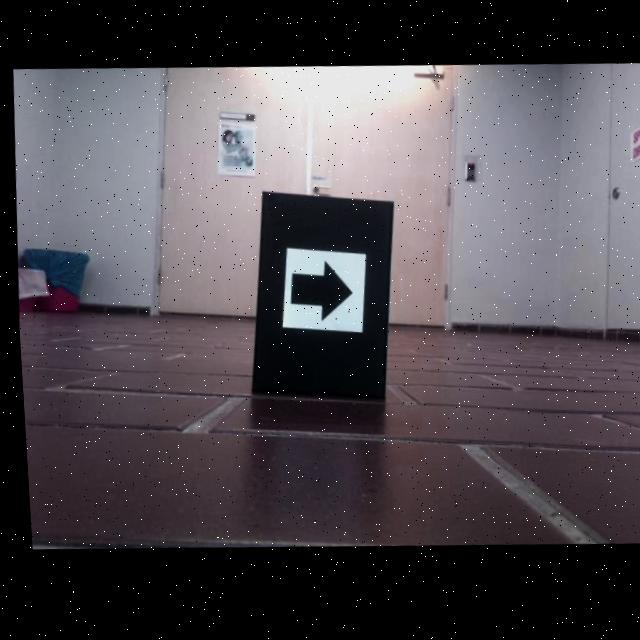RIGHT: (284, 261, 351, 326)
